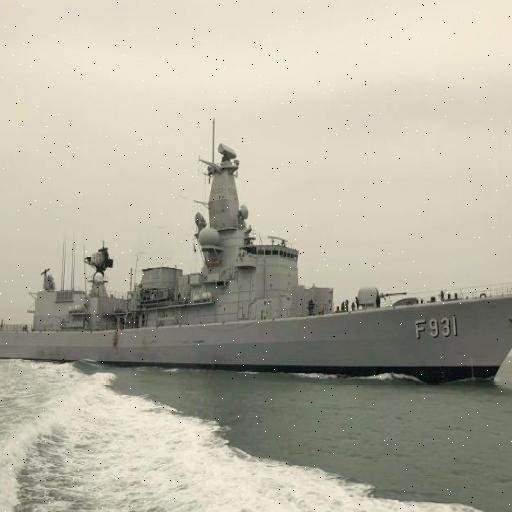Fragata: (1, 121, 512, 402)
